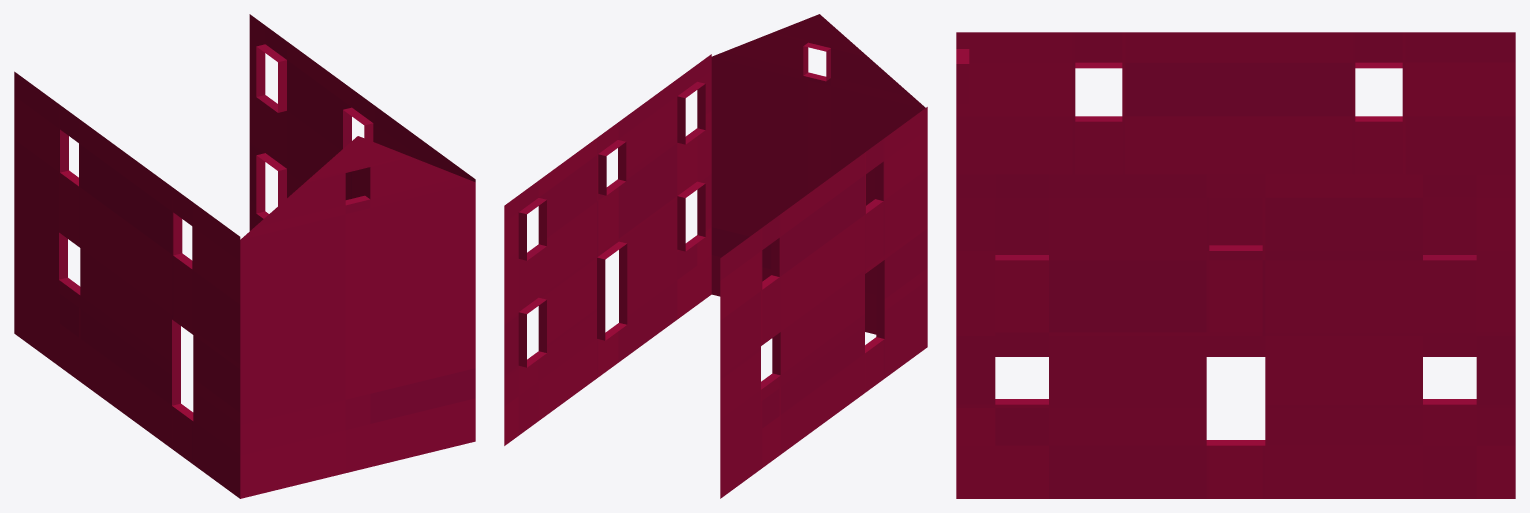
The model's file is SM_Bld_030_Masonry.glb.
3 views of the same model, side by side, from view 1: azimuth 30°, elevation 25°; view 2: azimuth 150°, elevation 25°; view 3: azimuth 270°, elevation 25° (orthographic). The views are drawn at different scales.
Parts seen in each view (by area): view 1: SM_Bld_030_Masonry; view 2: SM_Bld_030_Masonry; view 3: SM_Bld_030_Masonry.
Boxes of the visible parts, x1,y1,x2,y2 form: SM_Bld_030_Masonry: (14,14,475,498); SM_Bld_030_Masonry: (504,14,927,498); SM_Bld_030_Masonry: (956,32,1515,498).
Size of the model in its own units: 5.7 by 7.74 by 9.48.
